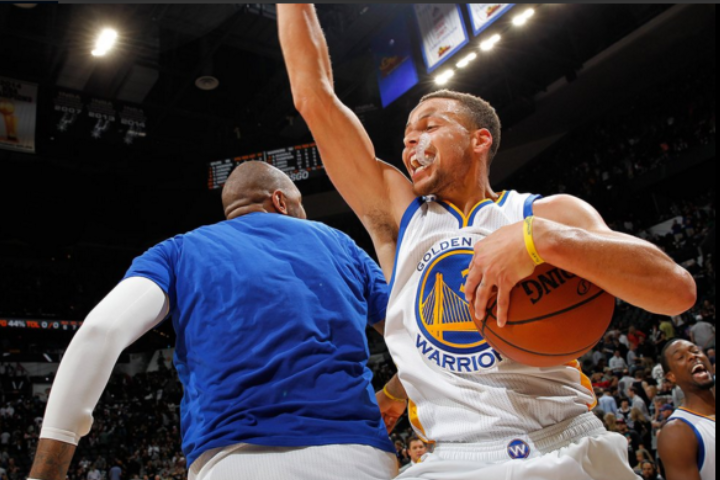ball: (469, 228, 619, 364)
player: (277, 2, 690, 480), (23, 158, 398, 480)
